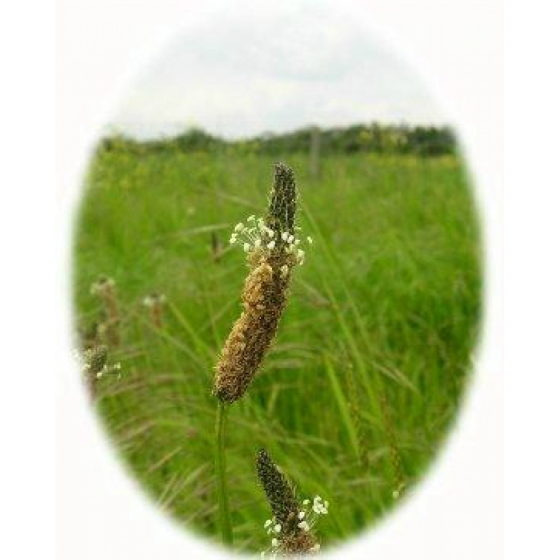buckhorn plantain: (181, 145, 317, 470)
